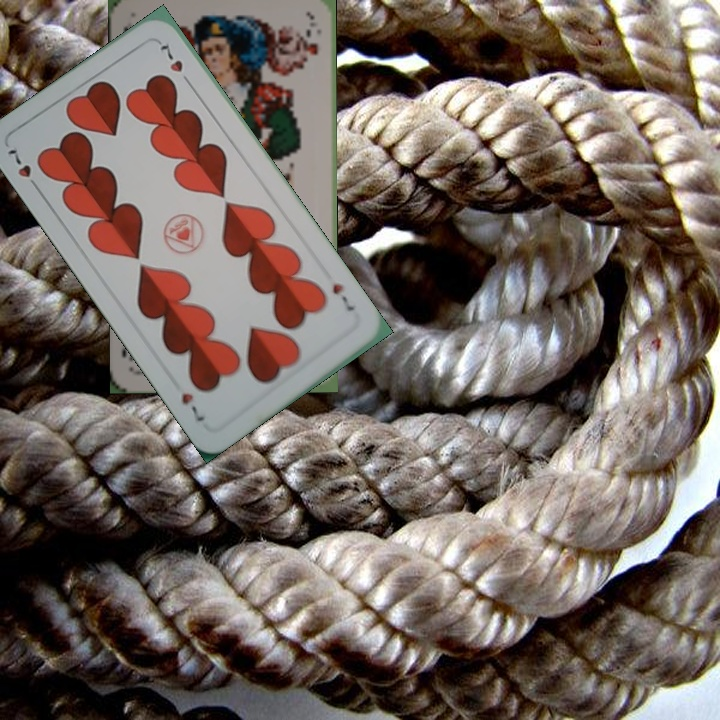H7: (4, 145, 43, 194), (328, 279, 358, 315)
